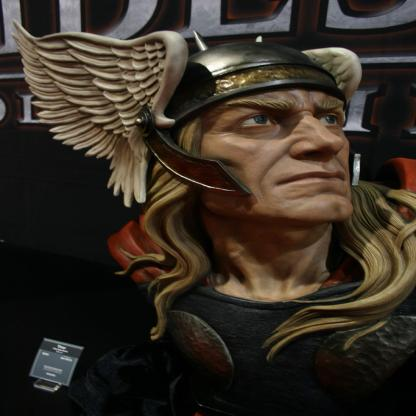Helmet: (7, 17, 363, 207)
